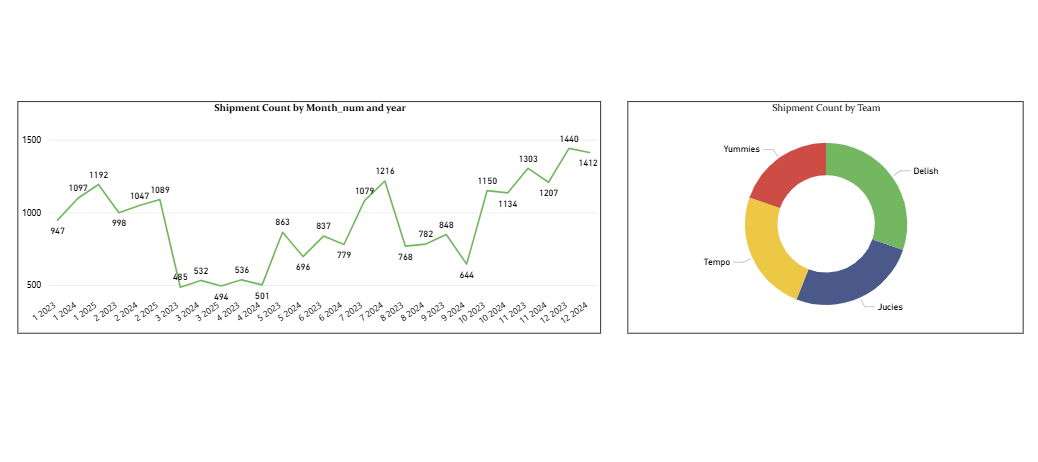

This screenshot's page, from the dashboard's own definition file:
{"tool":"powerbi","page":{"name":"Shipment count","canvas":[1280,720],"ordinal":2},"visuals":[{"type":"lineChart","fields":{"Y":["shipments.Shipment Count"],"Category":["calendar.Month_num","calendar.year"]},"box":[0,0,755.7,720],"z":0},{"type":"donutChart","fields":{"Y":["shipments.Shipment Count"],"Category":["people.Team"]},"box":[766,0,514,720],"z":1000}]}

Visuals, with their boxes on the page's 1280x720 design canvas (x1, y1, x2, y2). These are canvas units, not pixel positions in the 1038x462 screenshot, which may show the page scaled, cropped or inside an application window:
lineChart - shipments.Shipment Count x calendar.Month_num: Rect(0, 0, 756, 720)
donutChart - shipments.Shipment Count x people.Team: Rect(766, 0, 1280, 720)
